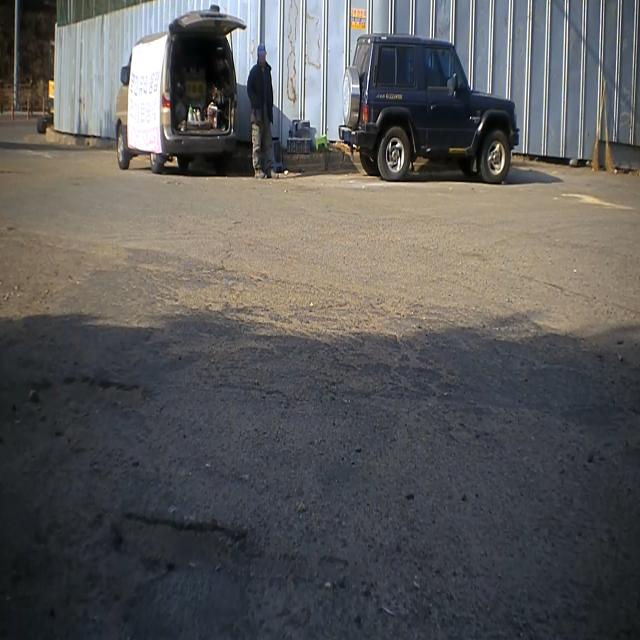Pothole: (100, 500, 261, 590), (25, 366, 149, 417)
